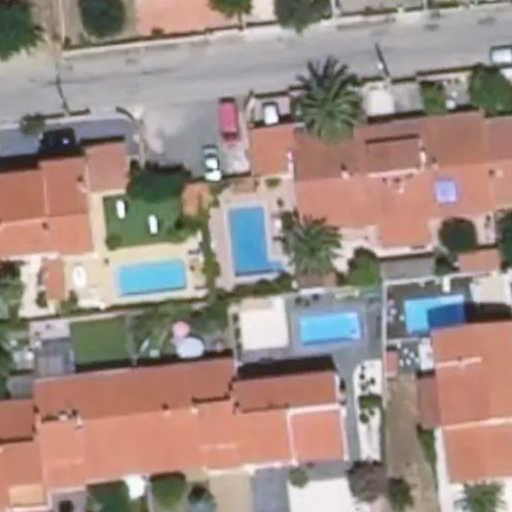pool: (227, 210, 284, 272)
